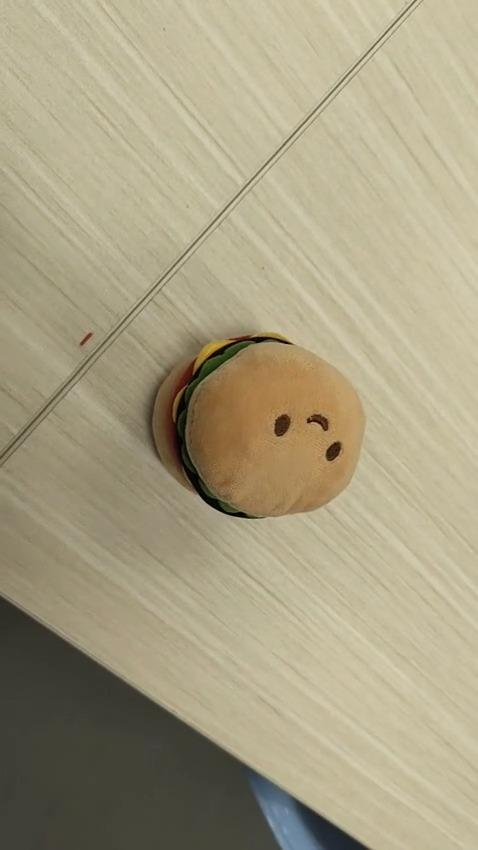hamburger: (150, 330, 366, 520)
